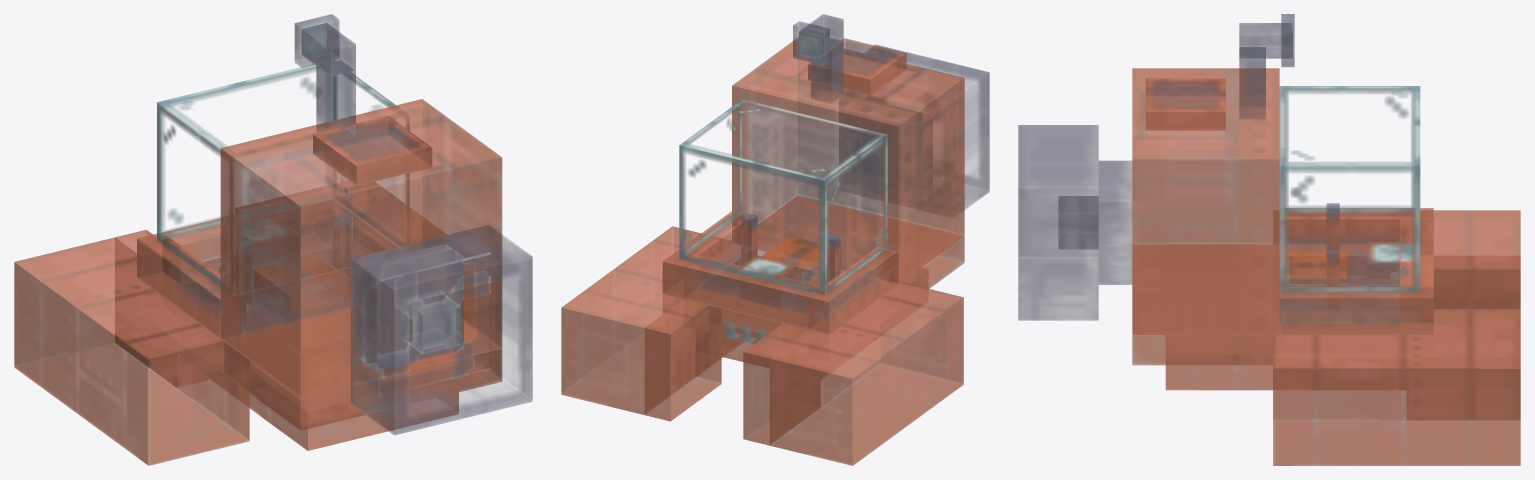
File: Submarine_Ale_39_x_my_version.glb
3 renders of one model, left to right at view 1: azimuth 30°, elevation 25°; view 2: azimuth 150°, elevation 25°; view 3: azimuth 270°, elevation 25°, orthographic. The views are drawn at different scales.
Parts seen in each view (by area): view 1: unnamed (×22); view 2: unnamed (×21); view 3: unnamed (×22).
Boxes of the visible parts, left/top/right/bottom form: unnamed (×22): left=14, top=14, right=532, bottom=465; unnamed (×21): left=561, top=14, right=989, bottom=465; unnamed (×22): left=1018, top=14, right=1520, bottom=465.
Size of the model in its own units: 3.5 by 3.75 by 4.69.
Materials: 1 (1 with a texture image).
